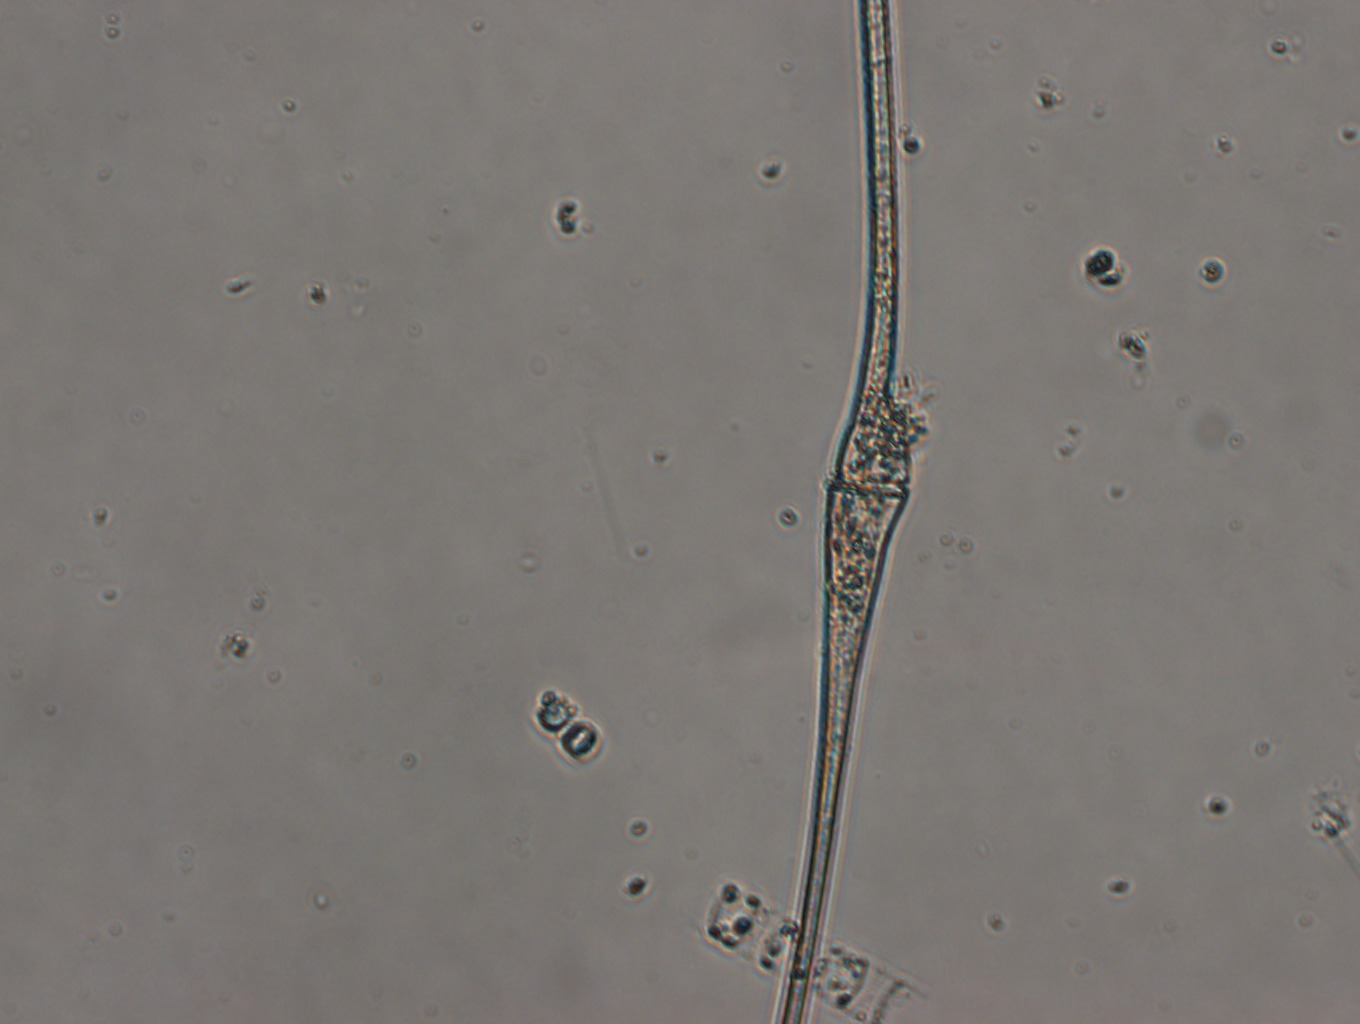ceratium fusus: (771, 1, 916, 1024)
skeletonema: (685, 872, 922, 1024)
